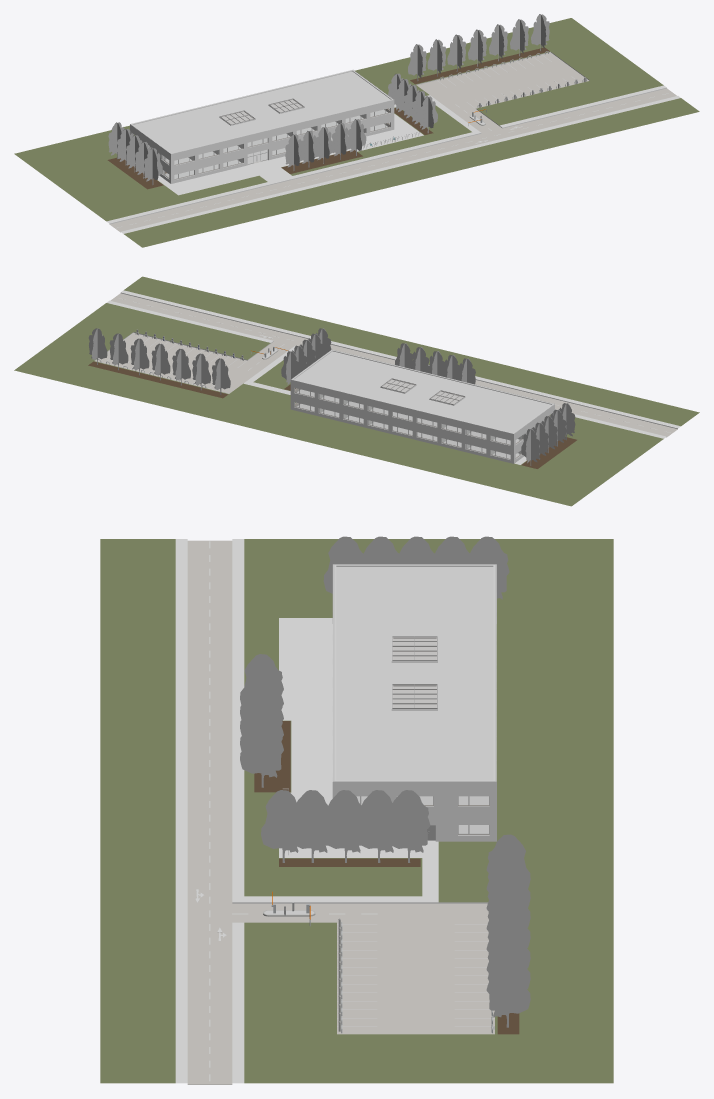
The picture shows the model from 3 angles, top to bottom: view 1: azimuth 30°, elevation 25°; view 2: azimuth 150°, elevation 25°; view 3: azimuth 270°, elevation 25°; orthographic projection. The views are drawn at different scales.
Visible parts, largest first — view 1: 3A8hY1UoD7JhnLeZeDyU4B, 3A8hY1UoD7JhnLeZeDyU2J, 0CWDnGbzX4Sf1BesL9Tj4o, 3A8hY1UoD7JhnLeZeDyUs3, 12bPoIwbv0tBGfPfnvCUc2, 3A8hY1UoD7JhnLeZeDyQc9, 3A8hY1UoD7JhnLeZeDyU2I, 0P898JVsX6VQGfAj0lC8$w, 3LJODRGPbDdfXHXShFLAxF, 3LJODRGPbDdfXHXShFLAnr, 12bPoIwbv0tBGfPfnvCUau, 0P898JVsX6VQGfAj0lC8w9 (+14 smaller); view 2: 3A8hY1UoD7JhnLeZeDyU4B, 0CWDnGbzX4Sf1BesL9Tj4o, 3A8hY1UoD7JhnLeZeDyU2J, 12bPoIwbv0tBGfPfnvCUYu, 3A8hY1UoD7JhnLeZeDyUs3, 3A8hY1UoD7JhnLeZeDyU2I, 0P898JVsX6VQGfAj0lC8$w, 3LJODRGPbDdfXHXShFLAnr, 3LJODRGPbDdfXHXShFLAxF, 3A8hY1UoD7JhnLeZeDyQc9, 12bPoIwbv0tBGfPfnvCUau, 3A8hY1UoD7JhnLeZeDyQto (+9 smaller); view 3: 3A8hY1UoD7JhnLeZeDyU4B, 3A8hY1UoD7JhnLeZeDyU2J, 0CWDnGbzX4Sf1BesL9Tj4o, 3A8hY1UoD7JhnLeZeDyUs3, 12bPoIwbv0tBGfPfnvCUW2, 3A8hY1UoD7JhnLeZeDyQc9, 0P898JVsX6VQGfAj0lC8w9, 3A8hY1UoD7JhnLeZeDyQqa, 3A8hY1UoD7JhnLeZeDyQpf, 3A8hY1UoD7JhnLeZeDyQqC, 3A8hY1UoD7JhnLeZeDyQqq, 3A8hY1UoD7JhnLeZeDyQq4 (+11 smaller).
Part boxes in pixels (bbox=[...]): 3A8hY1UoD7JhnLeZeDyU4B: bbox=[14, 18, 699, 247]; 3A8hY1UoD7JhnLeZeDyU2J: bbox=[109, 52, 676, 232]; 0CWDnGbzX4Sf1BesL9Tj4o: bbox=[133, 71, 390, 152]; 3A8hY1UoD7JhnLeZeDyUs3: bbox=[106, 85, 680, 233]; 12bPoIwbv0tBGfPfnvCUc2: bbox=[171, 99, 394, 183]; 3A8hY1UoD7JhnLeZeDyQc9: bbox=[107, 108, 433, 189]; 3A8hY1UoD7JhnLeZeDyU2I: bbox=[109, 52, 666, 224]; 0P898JVsX6VQGfAj0lC8$w: bbox=[410, 47, 549, 84]; 3LJODRGPbDdfXHXShFLAxF: bbox=[139, 109, 387, 164]; 3LJODRGPbDdfXHXShFLAnr: bbox=[164, 124, 387, 178]; 12bPoIwbv0tBGfPfnvCUau: bbox=[130, 124, 170, 183]; 0P898JVsX6VQGfAj0lC8w9: bbox=[531, 14, 549, 54]; 3A8hY1UoD7JhnLeZeDyU4B: bbox=[14, 276, 699, 506]; 0CWDnGbzX4Sf1BesL9Tj4o: bbox=[294, 351, 551, 432]; 3A8hY1UoD7JhnLeZeDyU2J: bbox=[95, 293, 677, 436]; 12bPoIwbv0tBGfPfnvCUYu: bbox=[290, 379, 513, 463]; 3A8hY1UoD7JhnLeZeDyUs3: bbox=[106, 290, 680, 464]; 3A8hY1UoD7JhnLeZeDyU2I: bbox=[94, 292, 677, 437]; 0P898JVsX6VQGfAj0lC8$w: bbox=[88, 361, 228, 398]; 3LJODRGPbDdfXHXShFLAnr: bbox=[297, 404, 520, 458]; 3LJODRGPbDdfXHXShFLAxF: bbox=[297, 389, 520, 444]; 3A8hY1UoD7JhnLeZeDyQc9: bbox=[284, 384, 576, 468]; 12bPoIwbv0tBGfPfnvCUau: bbox=[513, 404, 554, 463]; 3A8hY1UoD7JhnLeZeDyQto: bbox=[521, 429, 539, 465]; 3A8hY1UoD7JhnLeZeDyU4B: bbox=[100, 539, 613, 1083]; 3A8hY1UoD7JhnLeZeDyU2J: bbox=[187, 540, 494, 1084]; 0CWDnGbzX4Sf1BesL9Tj4o: bbox=[336, 567, 493, 780]; 3A8hY1UoD7JhnLeZeDyUs3: bbox=[175, 539, 438, 1083]; 12bPoIwbv0tBGfPfnvCUW2: bbox=[332, 781, 496, 841]; 3A8hY1UoD7JhnLeZeDyQc9: bbox=[254, 721, 420, 866]; 0P898JVsX6VQGfAj0lC8w9: bbox=[486, 954, 530, 1029]; 3A8hY1UoD7JhnLeZeDyQqa: bbox=[261, 790, 304, 862]; 3A8hY1UoD7JhnLeZeDyQpf: bbox=[240, 715, 283, 787]; 3A8hY1UoD7JhnLeZeDyQqC: bbox=[356, 790, 400, 862]; 3A8hY1UoD7JhnLeZeDyQqq: bbox=[323, 790, 366, 862]; 3A8hY1UoD7JhnLeZeDyQq4: bbox=[386, 790, 430, 862].
Size of the model in its own units: 159 by 13.82 by 63.53.
